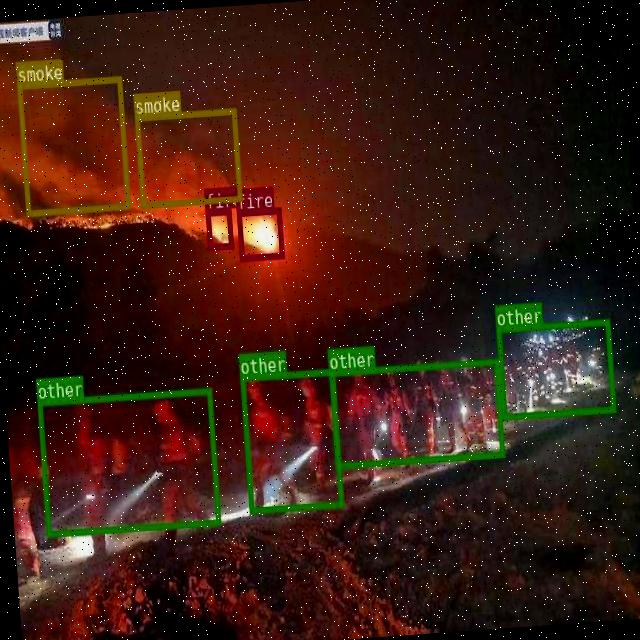fire: (236, 207, 283, 260), (205, 208, 232, 250)
smoke: (16, 74, 129, 216), (134, 107, 241, 207)
